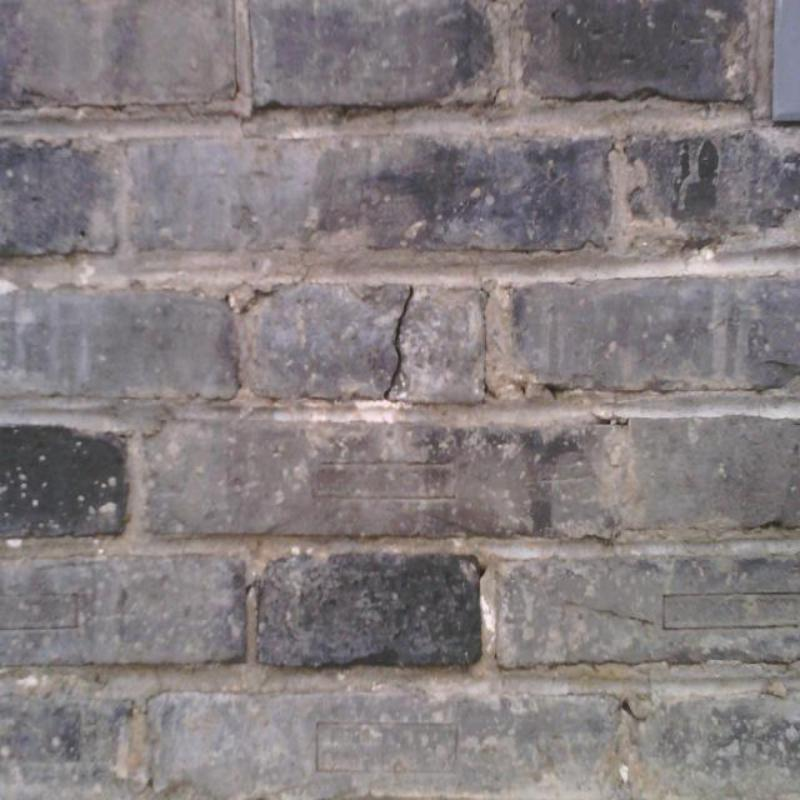crack: (384, 285, 414, 398), (621, 700, 646, 722)
